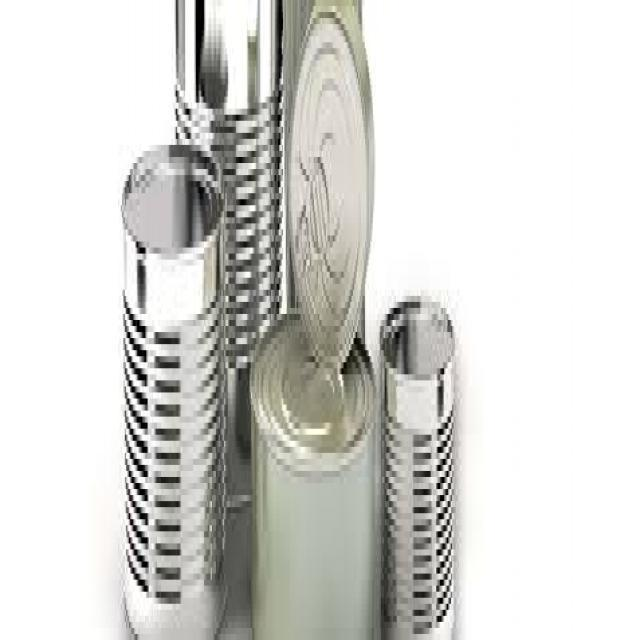recyclable: (122, 140, 228, 640), (175, 0, 295, 374), (252, 308, 377, 640), (285, 0, 374, 374), (378, 287, 456, 640)
